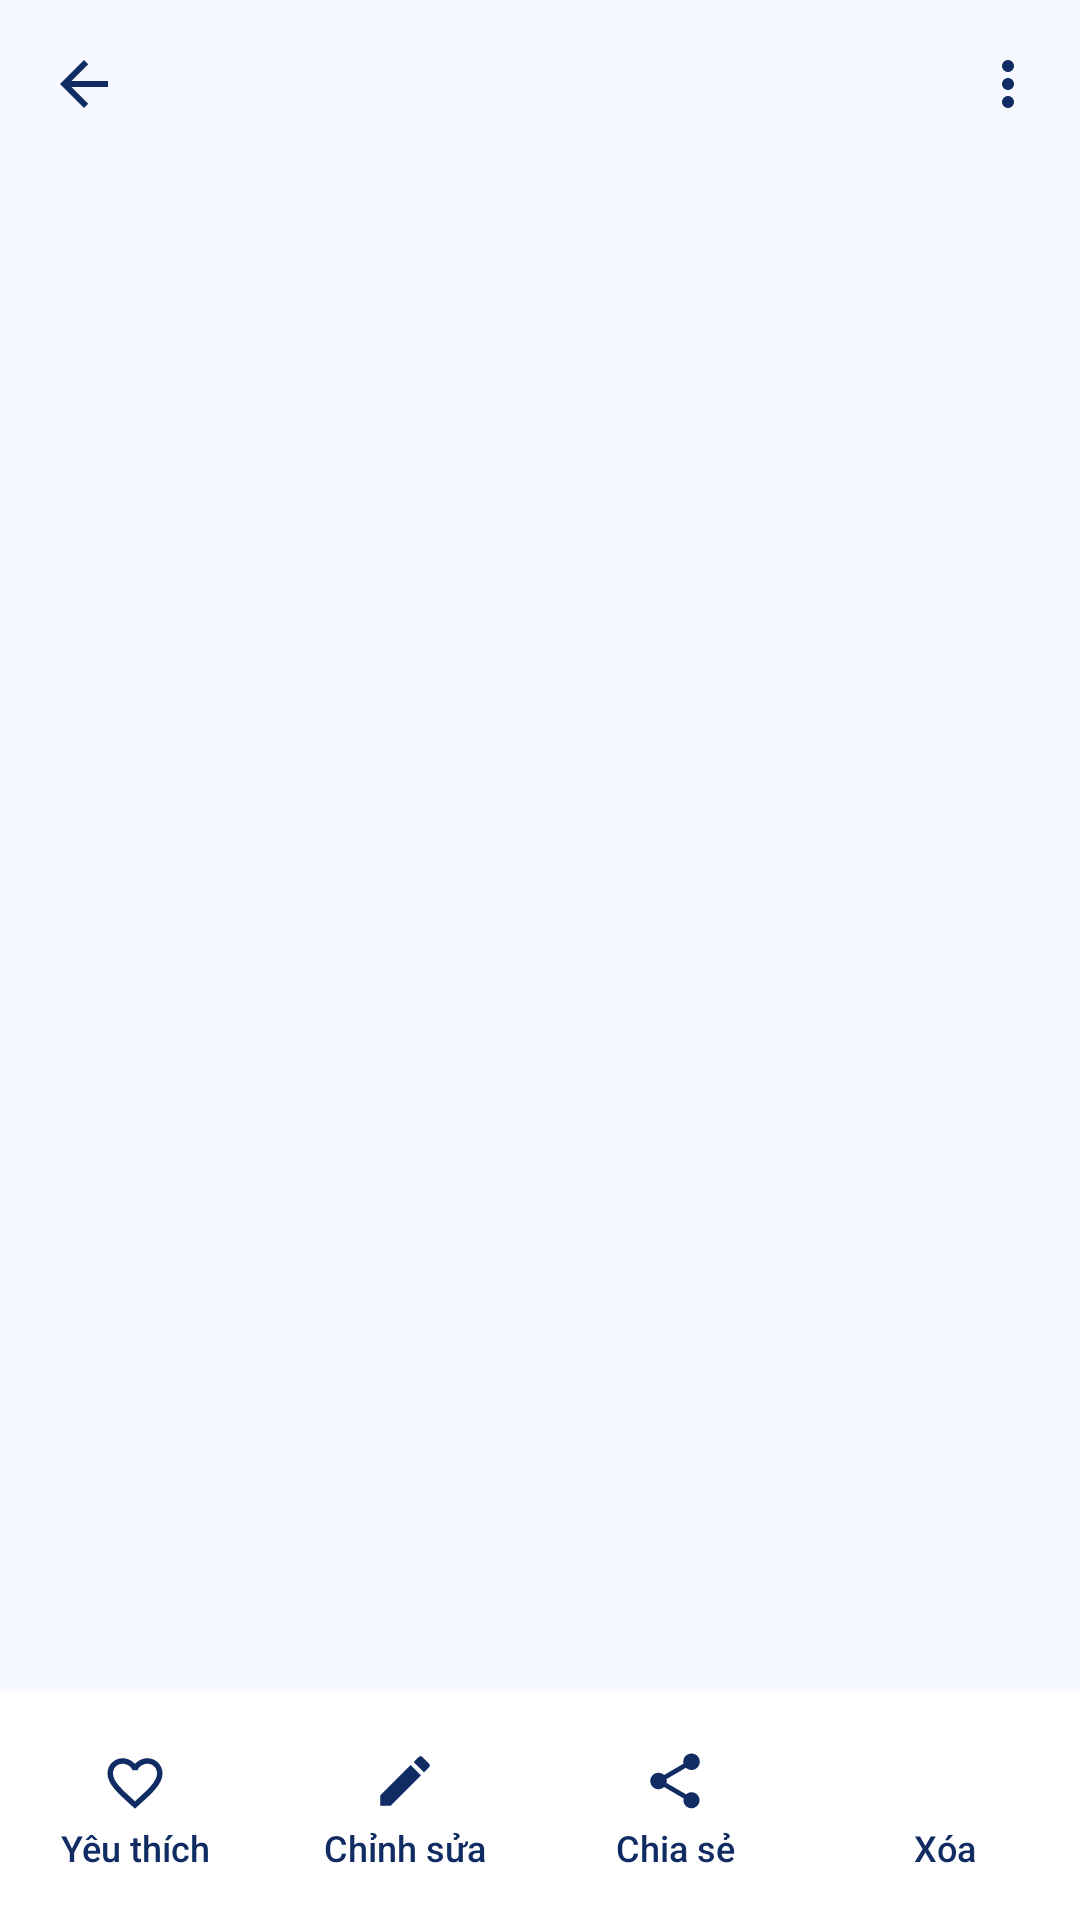

Named icons in this screenshot (1080px×1920px) and their centers, [x,y]:
Thông tin và thao tác: [1008,84]
